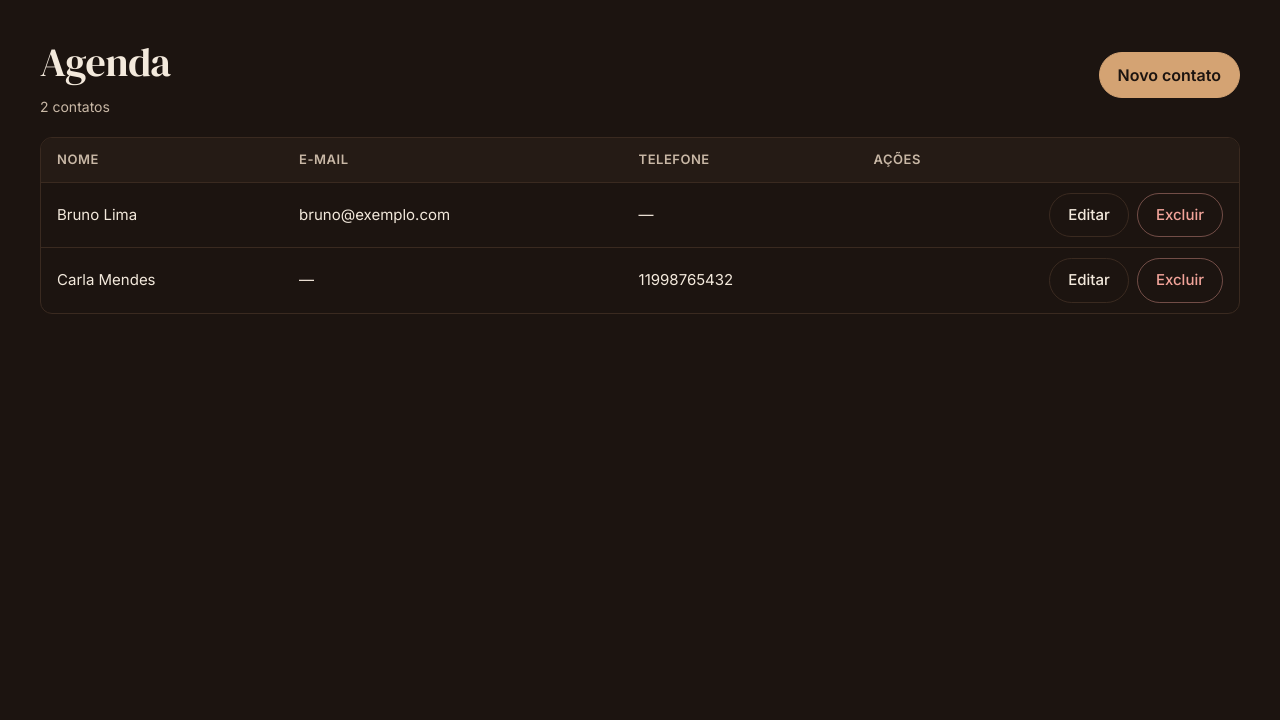
ContactsPage › ContactsPage_Create_ClosesModalAndAnnounces
Expected: the table is shown, x1=41 y1=138 x2=1239 y2=312
Click the button "Novo contato": [1169, 74] box x1=1098 y1=52 x2=1240 y2=98
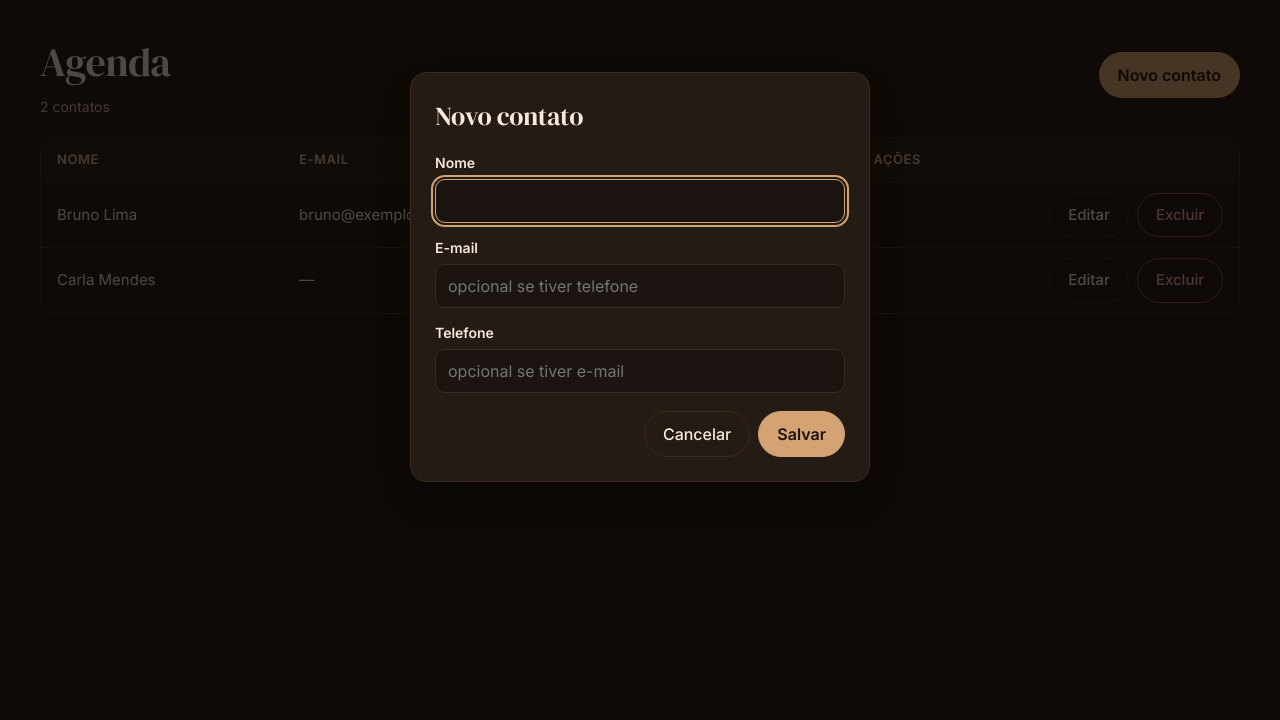
In the field labelled "Nome": [640, 201] box x1=435 y1=179 x2=845 y2=223, type "Diego Rocha"
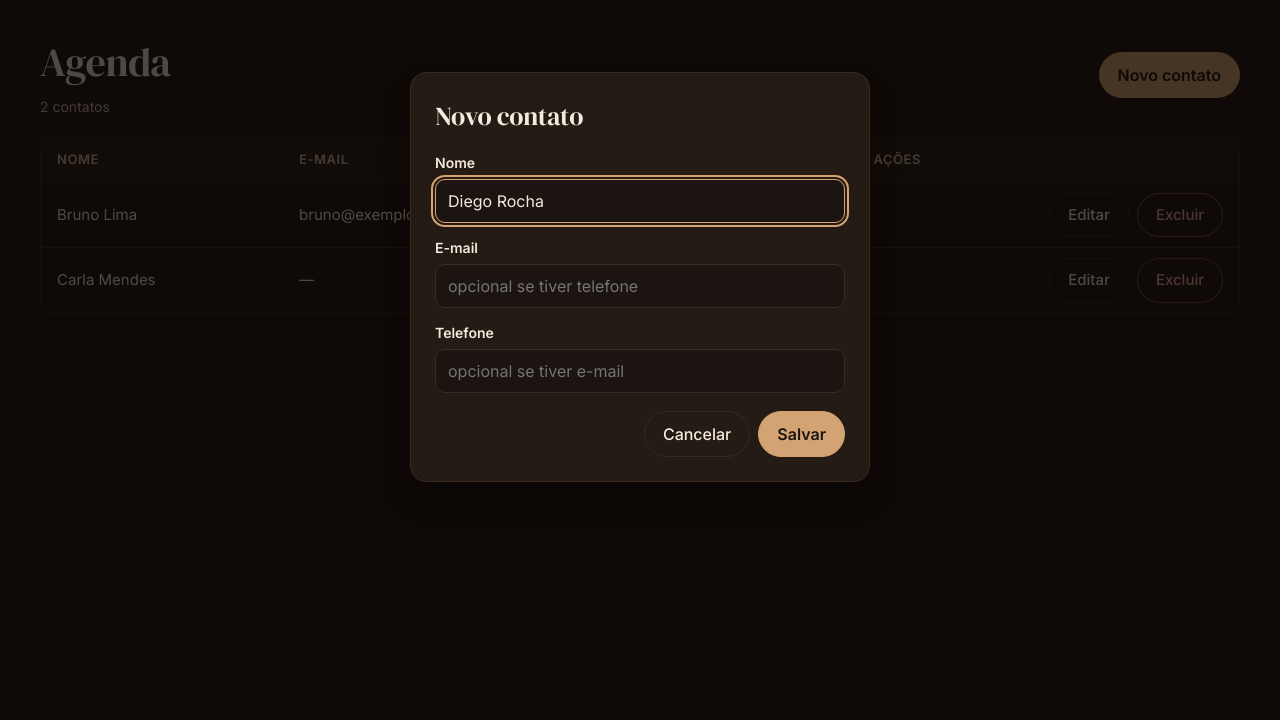
In the field labelled "E-mail": [640, 286] box x1=435 y1=264 x2=845 y2=308, type "diego@exemplo.com"
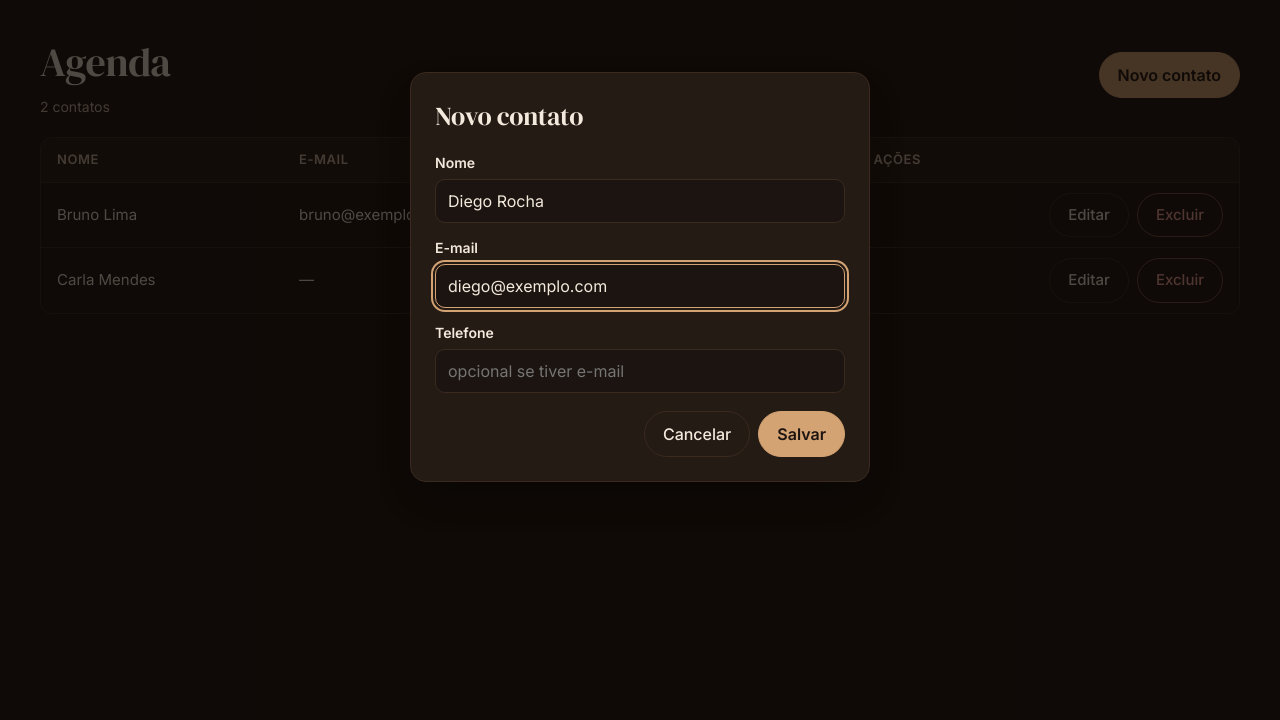
Click the button "Salvar": [802, 434] box x1=758 y1=411 x2=845 y2=457
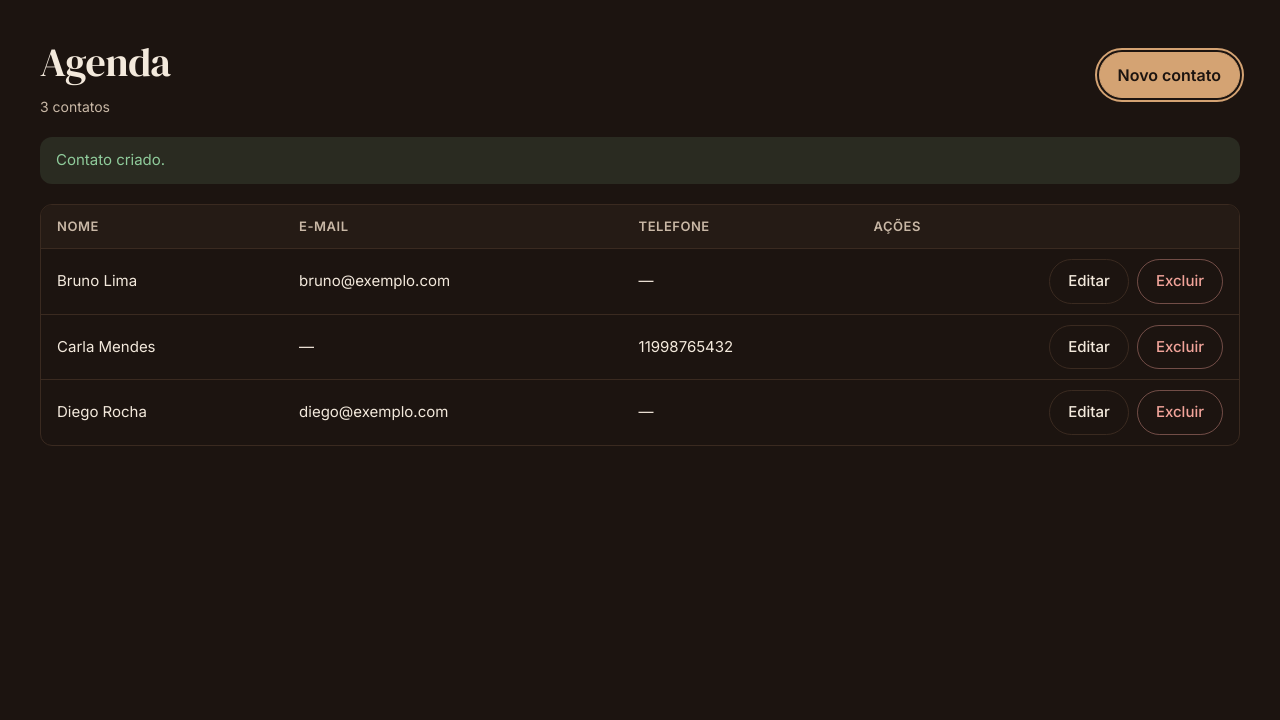
Now the message reads "Contato criado.", box x1=56 y1=150 x2=165 y2=169
Now the dialog is gone
Now the text "Diego Rocha" is shown, box x1=41 y1=380 x2=283 y2=444
